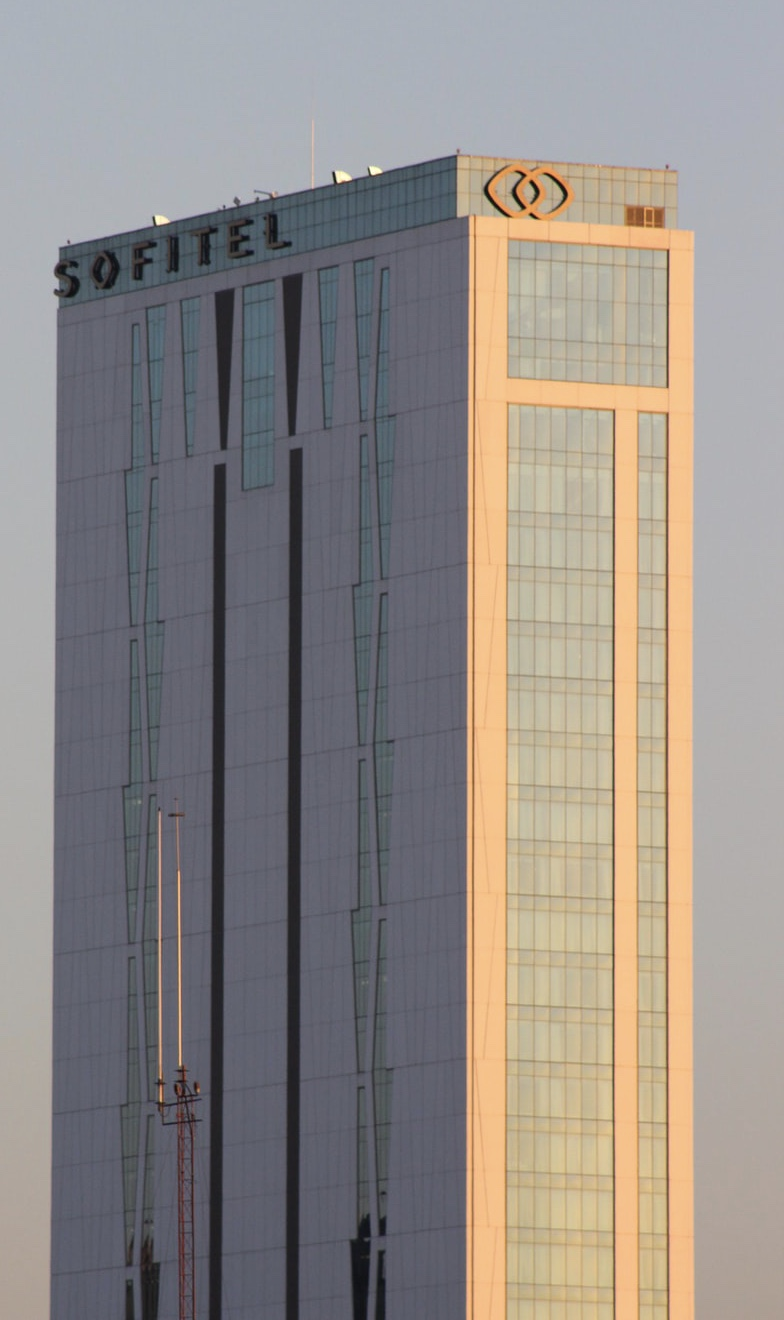Sky Building: (46, 144, 706, 1315)
